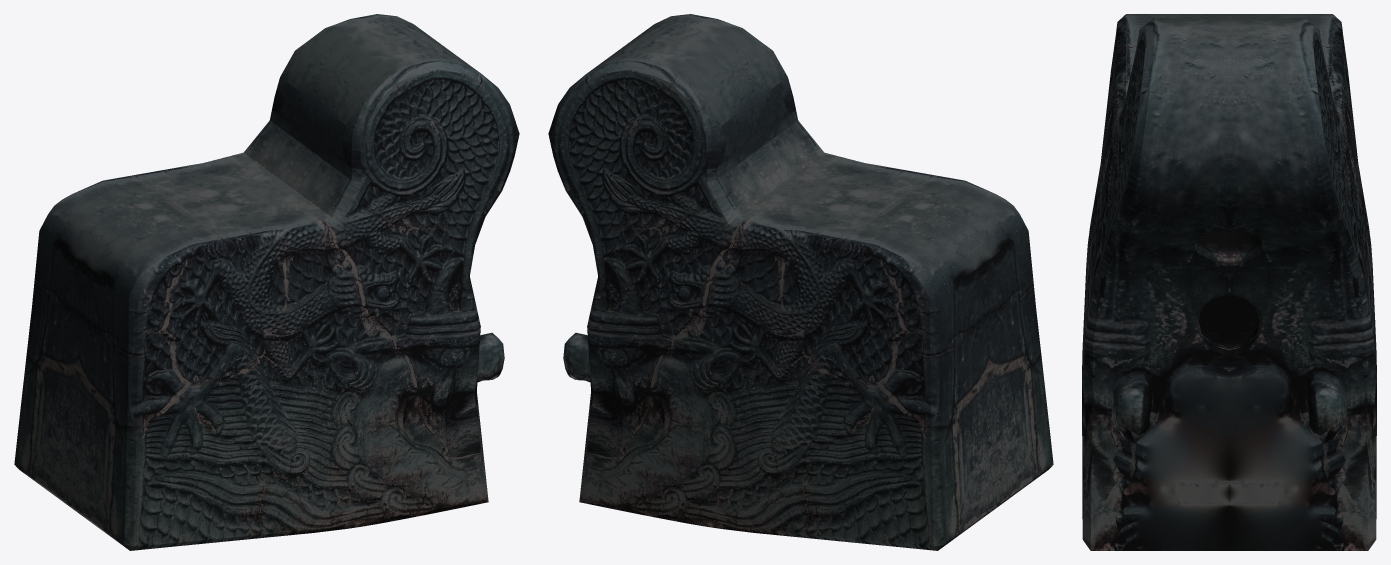
Rendered from SM_RoofOrnament07C.fbx.
3 renders of one model, left to right at view 1: azimuth 30°, elevation 25°; view 2: azimuth 150°, elevation 25°; view 3: azimuth 270°, elevation 25°, orthographic. The views are drawn at different scales.
Parts seen in each view (by area): view 1: SM_RoofOrnament07C; view 2: SM_RoofOrnament07C; view 3: SM_RoofOrnament07C.
Boxes of the visible parts, bbox=[...] form: SM_RoofOrnament07C: bbox=[14, 14, 519, 550]; SM_RoofOrnament07C: bbox=[548, 14, 1053, 550]; SM_RoofOrnament07C: bbox=[1082, 14, 1376, 550].
Bounding box in the file's own units: 81.33 × 43.55 × 80.97.
1 material, 1 textured.
